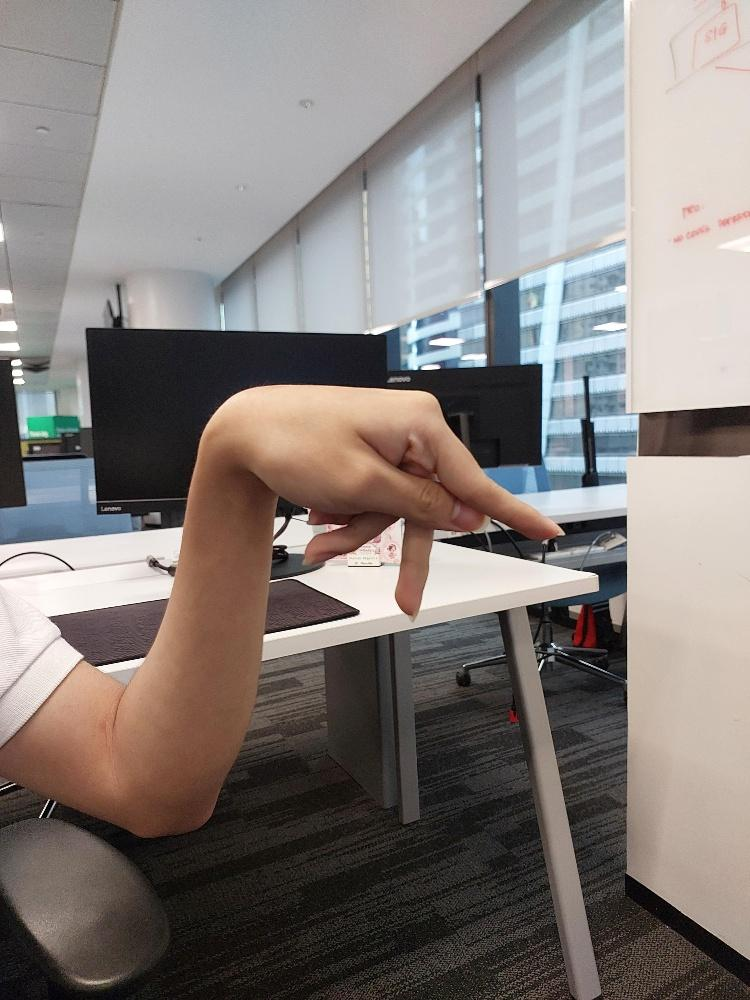p: (214, 376, 559, 621)
